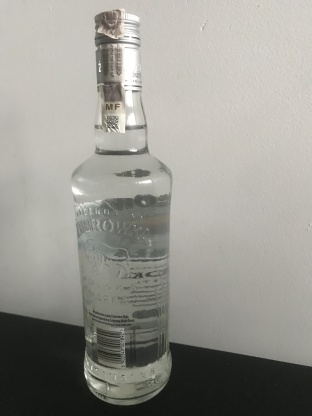nakretka: (92, 6, 144, 92)
